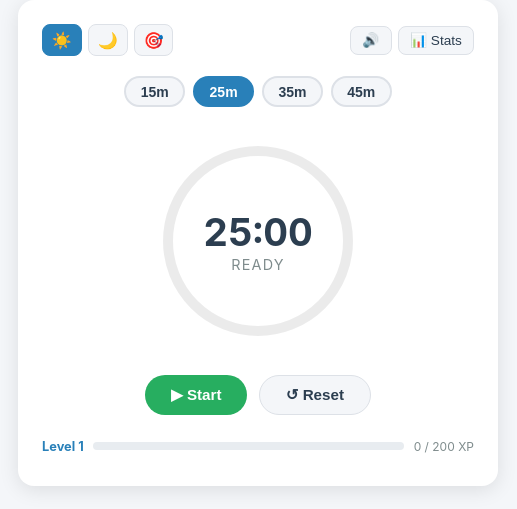
Test case: PomodoroTimer › Start button appears and changes to Pause when clicked
Click the button "▶ Start" at (196, 395), box [145,375,247,415]
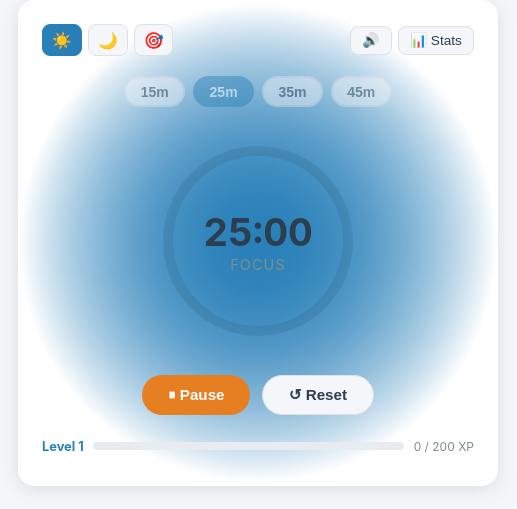
Now the button "⏸ Pause" is shown, box [142,375,250,415]
